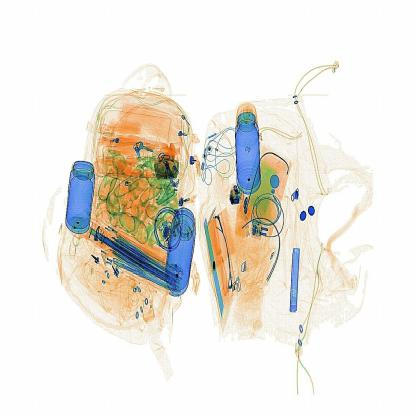pliers: (290, 246, 306, 320)
